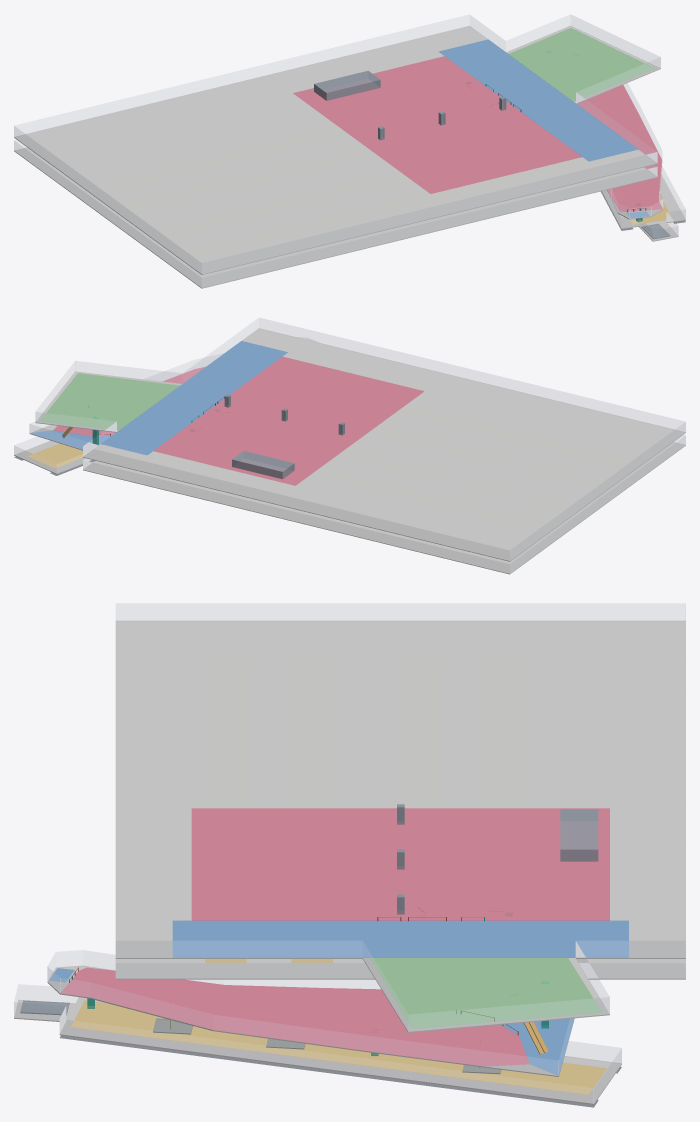
File: station.glb
3 views of the same model, one above another, from view 1: azimuth 30°, elevation 25°; view 2: azimuth 150°, elevation 25°; view 3: azimuth 270°, elevation 25° (orthographic). The views are drawn at different scales.
Parts seen in each view (by area): view 1: tra-concourse-b1, tra-platform-b2, mrt-r-concourse-b3, mrt-r-platform-b4; view 2: tra-concourse-b1, tra-platform-b2, mrt-r-platform-b4, mrt-r-concourse-b3; view 3: tra-concourse-b1, mrt-r-concourse-b3, mrt-r-platform-b4, tra-platform-b2.
Part boxes in pixels (x1,y1,x2,y2): tra-concourse-b1: [14, 15, 660, 274]; tra-platform-b2: [14, 140, 657, 288]; mrt-r-concourse-b3: [577, 83, 663, 219]; mrt-r-platform-b4: [601, 167, 685, 241]; tra-concourse-b1: [35, 318, 685, 561]; tra-platform-b2: [83, 435, 685, 574]; mrt-r-platform-b4: [14, 437, 94, 475]; mrt-r-concourse-b3: [29, 359, 205, 450]; tra-concourse-b1: [115, 604, 685, 1032]; mrt-r-concourse-b3: [47, 950, 574, 1076]; mrt-r-platform-b4: [14, 985, 621, 1107]; tra-platform-b2: [115, 959, 685, 979].
Size of the model in its own units: 258 by 26.1 by 177.
